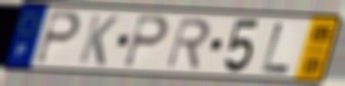5: (223, 19, 261, 74)
K: (76, 12, 121, 68)
L: (259, 21, 293, 75)
P: (121, 13, 171, 70), (33, 9, 83, 66)
R: (164, 17, 213, 71)
